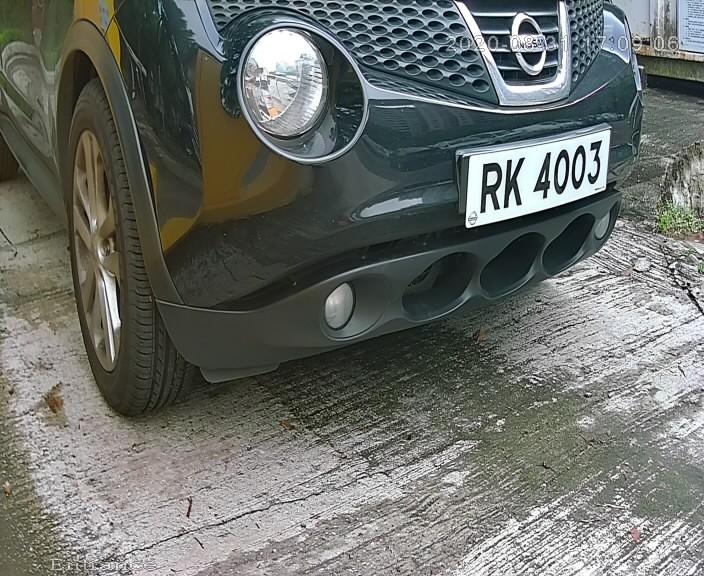License Plate: (459, 124, 617, 240)
